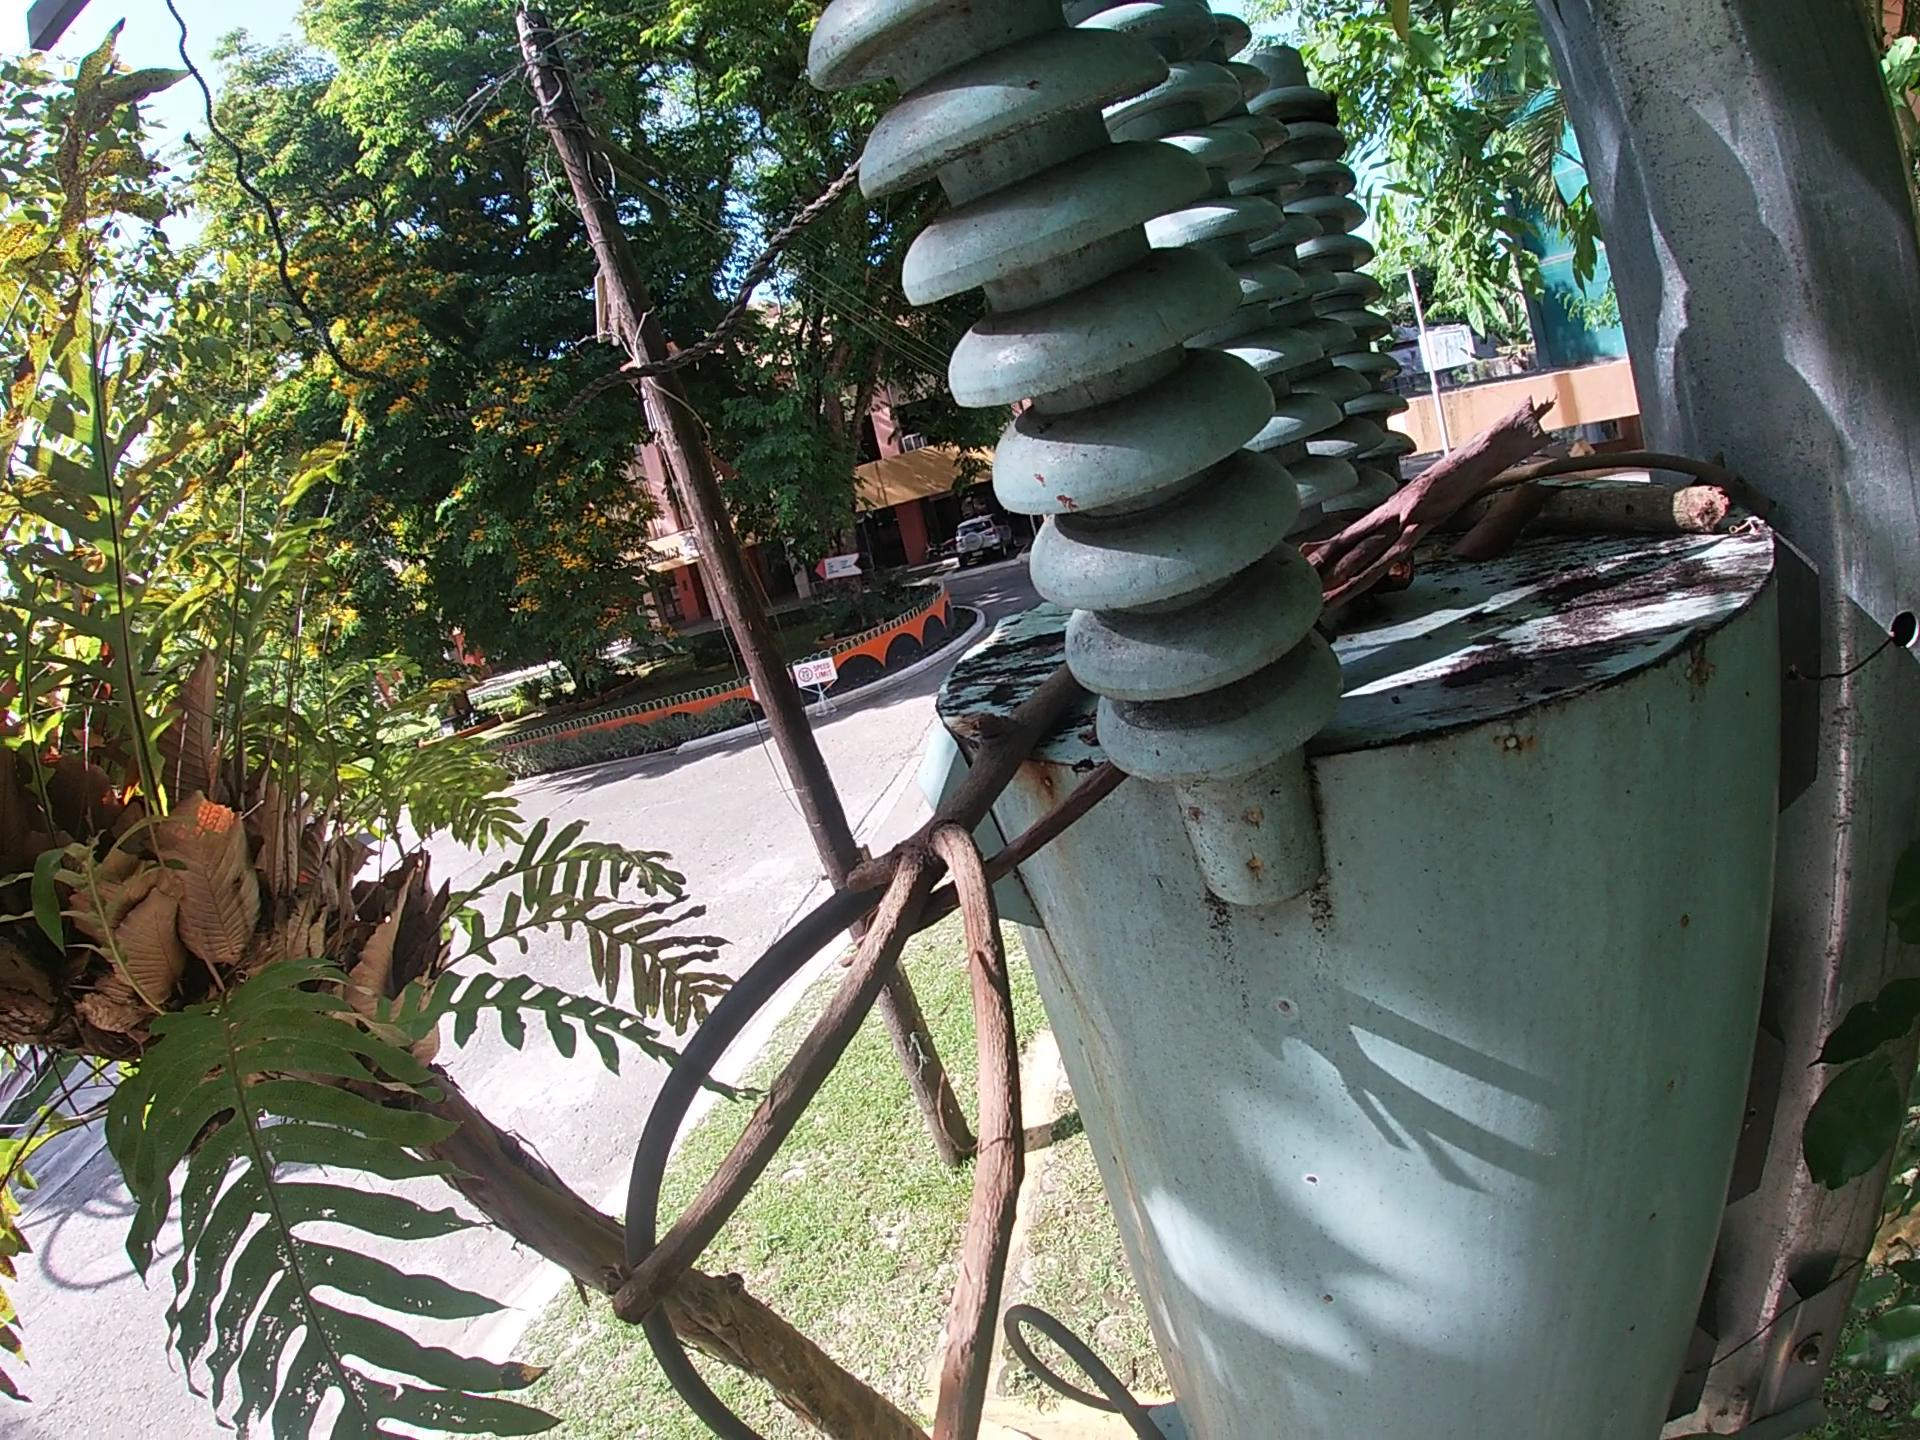leaf: (1447, 473, 1544, 560)
mahogany fruit: (1380, 563, 1414, 622)
tree branch: (611, 672, 1092, 1438), (1311, 383, 1562, 632), (922, 765, 1144, 938), (1525, 470, 1785, 548), (1531, 451, 1754, 467)
